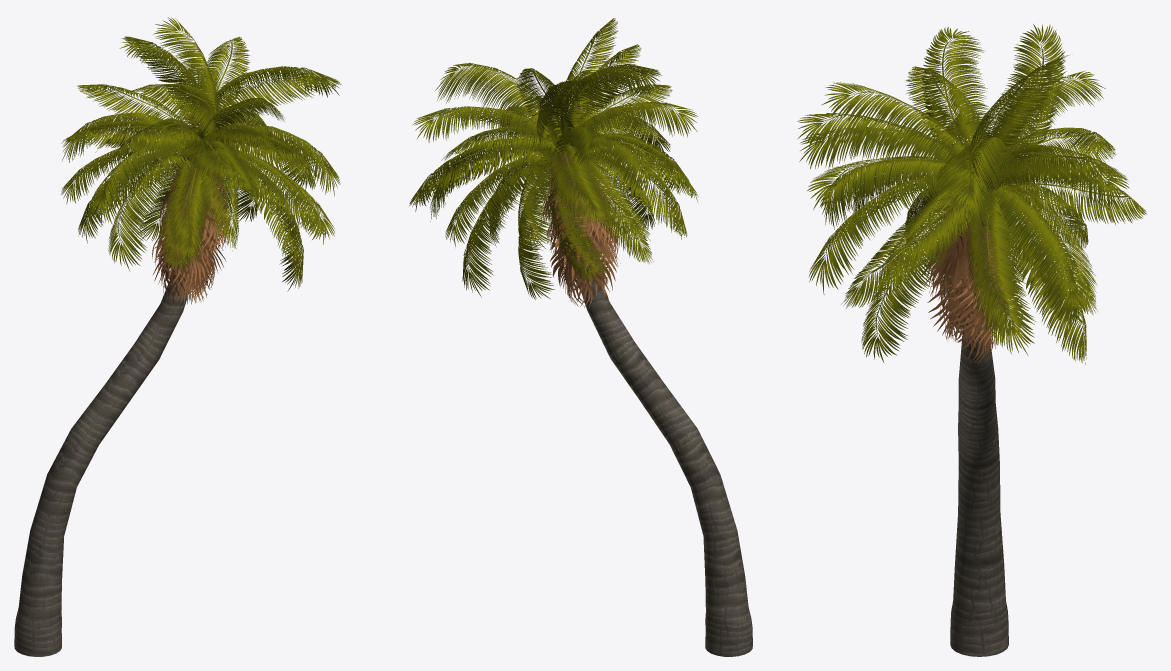
Rendered from SM_Palm_Tree_02.fbx.
The picture shows the model from 3 angles, left to right: view 1: azimuth 30°, elevation 25°; view 2: azimuth 150°, elevation 25°; view 3: azimuth 270°, elevation 25°; orthographic projection. The views are drawn at different scales.
Visible parts, largest first — view 1: SM_Palm_Tree_02_LOD0; view 2: SM_Palm_Tree_02_LOD0; view 3: SM_Palm_Tree_02_LOD0.
Boxes of the visible parts, left/top/right/bottom form: SM_Palm_Tree_02_LOD0: left=14, top=17, right=341, bottom=656; SM_Palm_Tree_02_LOD0: left=409, top=18, right=752, bottom=656; SM_Palm_Tree_02_LOD0: left=797, top=24, right=1146, bottom=656.
Bounding box in the file's own units: 551 × 440 × 893.
